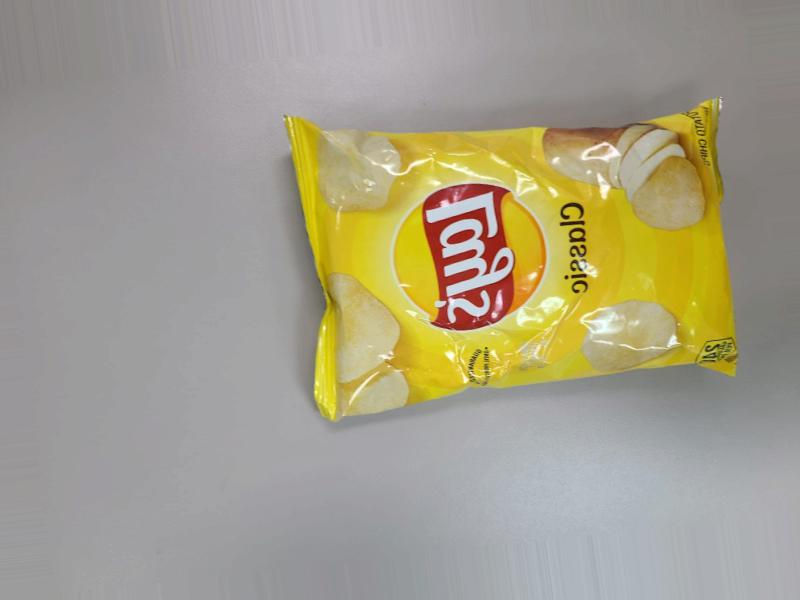lays: (281, 91, 699, 428)
